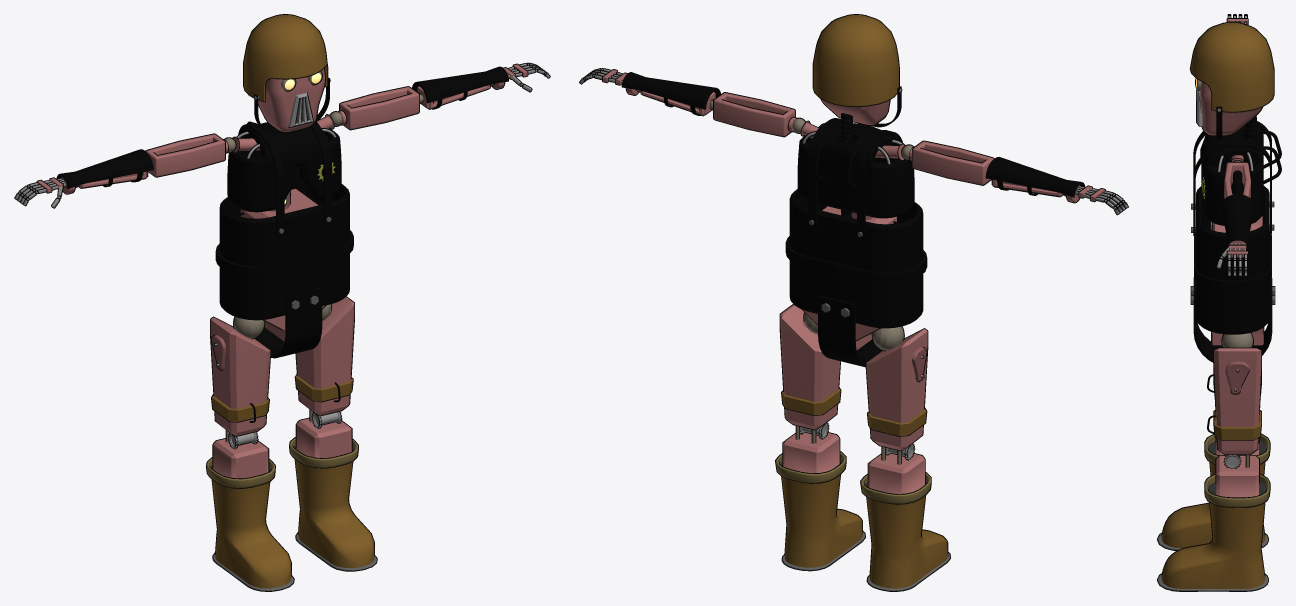
Rendered from Robot3M.fbx.
3 renders of one model, left to right at view 1: azimuth 30°, elevation 25°; view 2: azimuth 150°, elevation 25°; view 3: azimuth 270°, elevation 25°, orthographic. The views are drawn at different scales.
Parts seen in each view (by area): view 1: Cylinder.001; view 2: Cylinder.001; view 3: Cylinder.001.
Part boxes in pixels (x1,y1,x2,y2): Cylinder.001: (14,14,550,591); Cylinder.001: (579,14,1128,591); Cylinder.001: (1157,14,1281,591).
Bounding box in the file's own units: 428 × 414 × 87.6.
